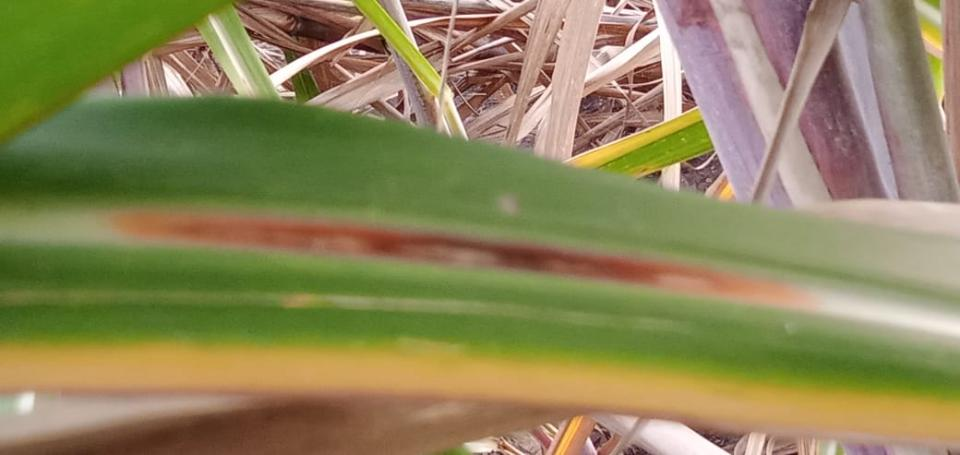RedRot: (99, 207, 819, 308)
Yellow: (0, 342, 959, 448)
